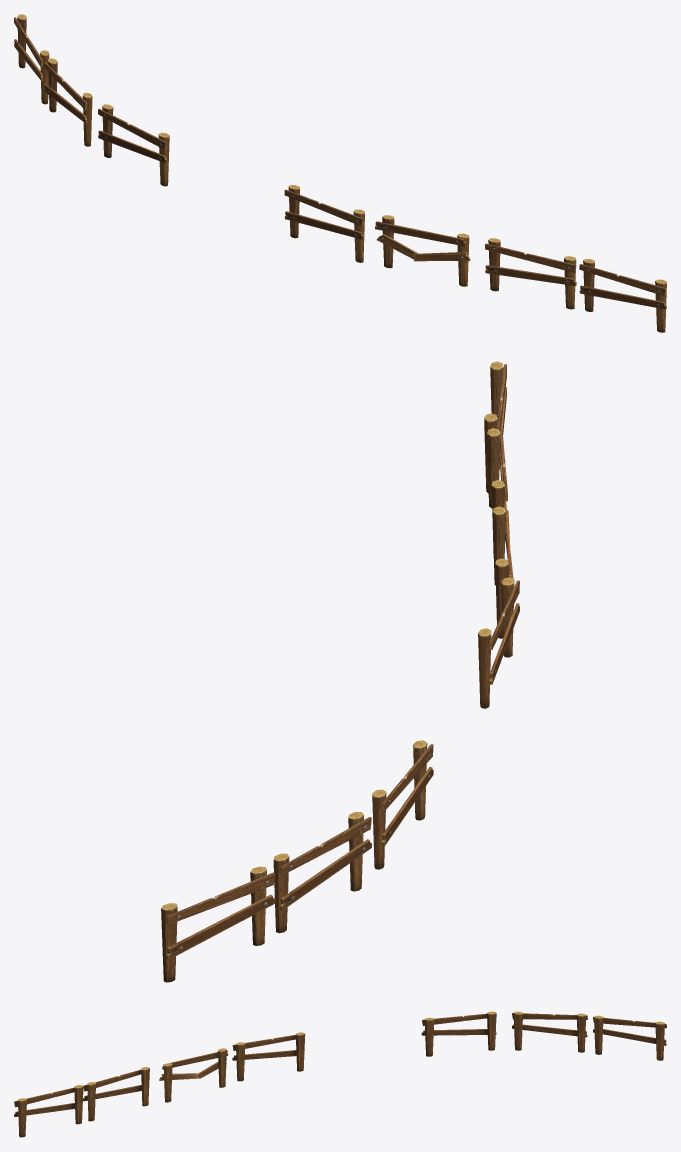
File: Area_08_19.fbx
The picture shows the model from 3 angles, top to bottom: view 1: azimuth 30°, elevation 25°; view 2: azimuth 150°, elevation 25°; view 3: azimuth 270°, elevation 25°; orthographic projection. The views are drawn at different scales.
Visible parts, largest first — view 1: Area_08_19; view 2: Area_08_19; view 3: Area_08_19.
Part boxes in pixels (x1,y1,x2,y2): Area_08_19: (14,14,666,332); Area_08_19: (161,361,519,982); Area_08_19: (14,1011,666,1137).
Size of the model in its own units: 734 by 147 by 2238.
